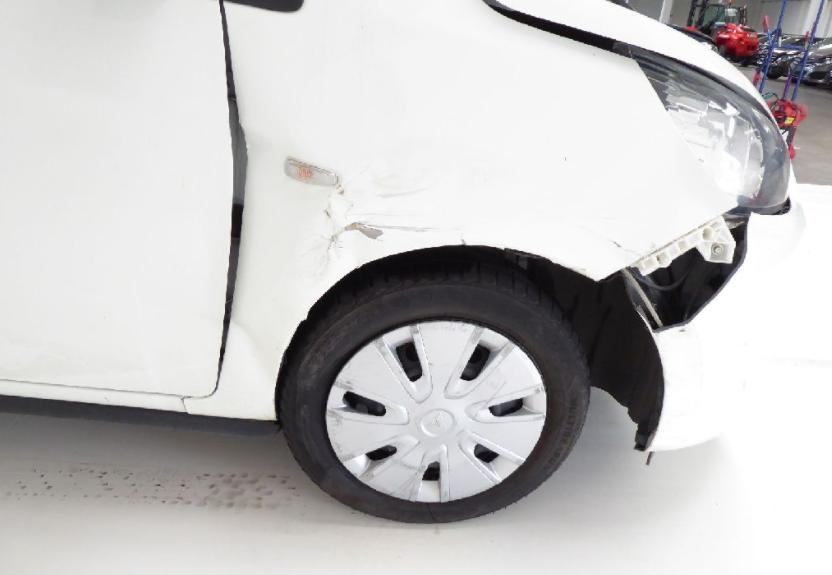Fender: (183, 0, 737, 421)
Front-bumper: (647, 202, 803, 452)
Front-door: (2, 2, 236, 395)
Front-wheel: (278, 250, 589, 524)
Headlight: (629, 49, 790, 208)
Hood: (486, 0, 763, 103)
Rocker-panel: (0, 381, 186, 412)
